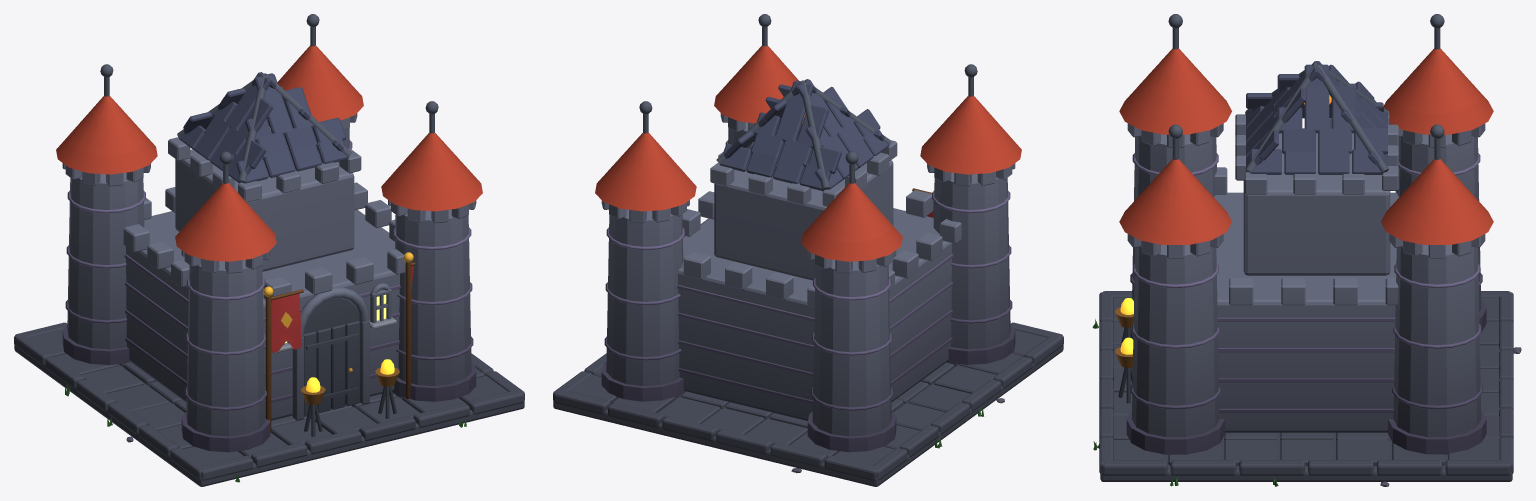
Rendered from raid_keep.glb.
The picture shows the model from 3 angles, left to right: view 1: azimuth 30°, elevation 25°; view 2: azimuth 150°, elevation 25°; view 3: azimuth 270°, elevation 25°; orthographic projection. The views are drawn at different scales.
Parts seen in each view (by area): view 1: t0_stone_dark, t0_roof_red, t0_roof_slate, t0_rock, t0_iron, t0_wood_dark, t0_cloth_red, t0_bronze; view 2: t0_stone_dark, t0_roof_red, t0_rock, t0_roof_slate, t0_iron; view 3: t0_stone_dark, t0_roof_red, t0_roof_slate, t0_rock, t0_iron, t0_bronze.
Part boxes in pixels (box(x1,y1,x2,y2)): t0_stone_dark: box(14, 113, 524, 486); t0_roof_red: box(56, 45, 482, 261); t0_roof_slate: box(179, 72, 348, 183); t0_rock: box(62, 140, 476, 452); t0_iron: box(100, 14, 438, 436); t0_wood_dark: box(265, 262, 415, 432); t0_cloth_red: box(271, 266, 413, 352); t0_bronze: box(301, 367, 399, 404); t0_stone_dark: box(553, 113, 1063, 486); t0_roof_red: box(595, 45, 1021, 261); t0_rock: box(601, 140, 1015, 452); t0_roof_slate: box(719, 79, 888, 191); t0_iron: box(639, 14, 977, 189); t0_stone_dark: box(1099, 111, 1513, 481); t0_roof_red: box(1119, 48, 1493, 244); t0_roof_slate: box(1246, 61, 1387, 174); t0_rock: box(1126, 153, 1486, 454); t0_iron: box(1118, 14, 1444, 403); t0_bronze: box(1115, 307, 1133, 367).
Size of the model in its own units: 4.1 by 3.52 by 4.1.
